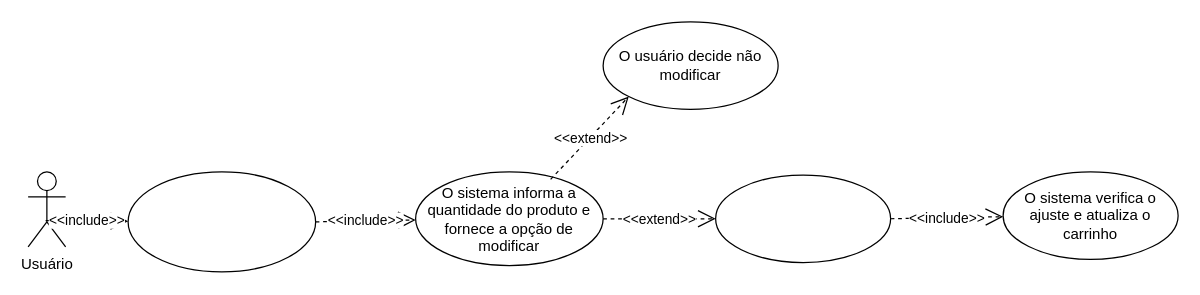
The diagram is 1200 pixels wide and 295 high, and some of its shapes have lost their labels. The shapes that lost their labels are listed below. From the top down, each one's centre as x and y in pixels, then its label:
(x=221, y=221): O usuário escolhe o item que deseja alterar em seu carrinho
(x=802, y=218): O cliente ajusta o produto como desejado
